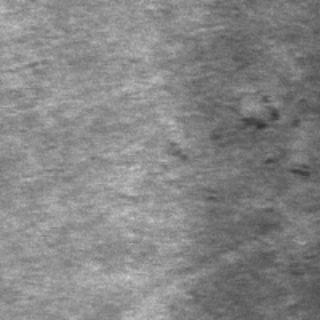rolled pit: (196, 91, 310, 179)
